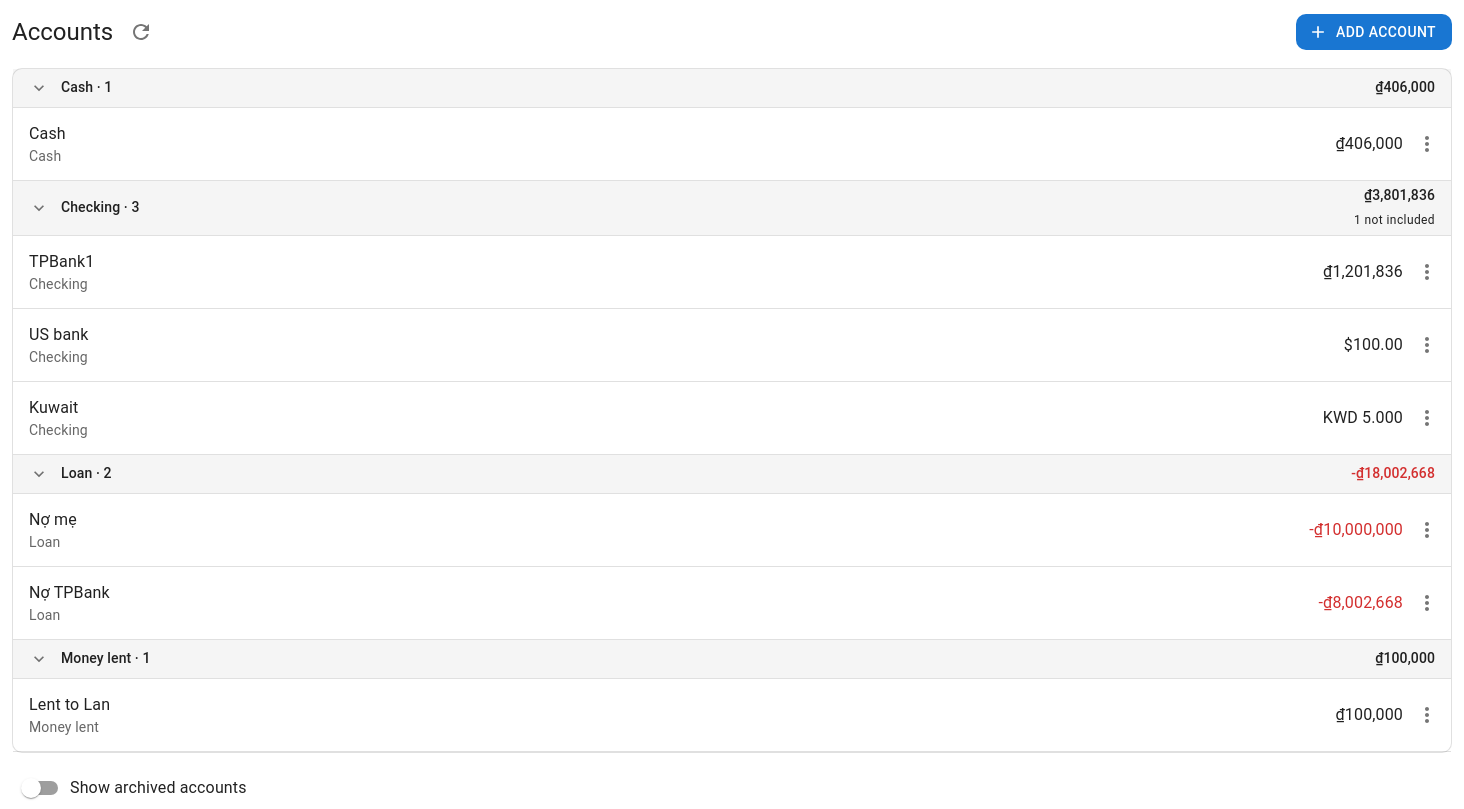
Test: pinning accounts to the Overview (waterflow#74, waterflow#88) › pins from the row's menu on a phone, with no other button beside the balance
Click the 1st button named "Account actions".
click(1427, 144)  # box 1407,124 -> 1447,164
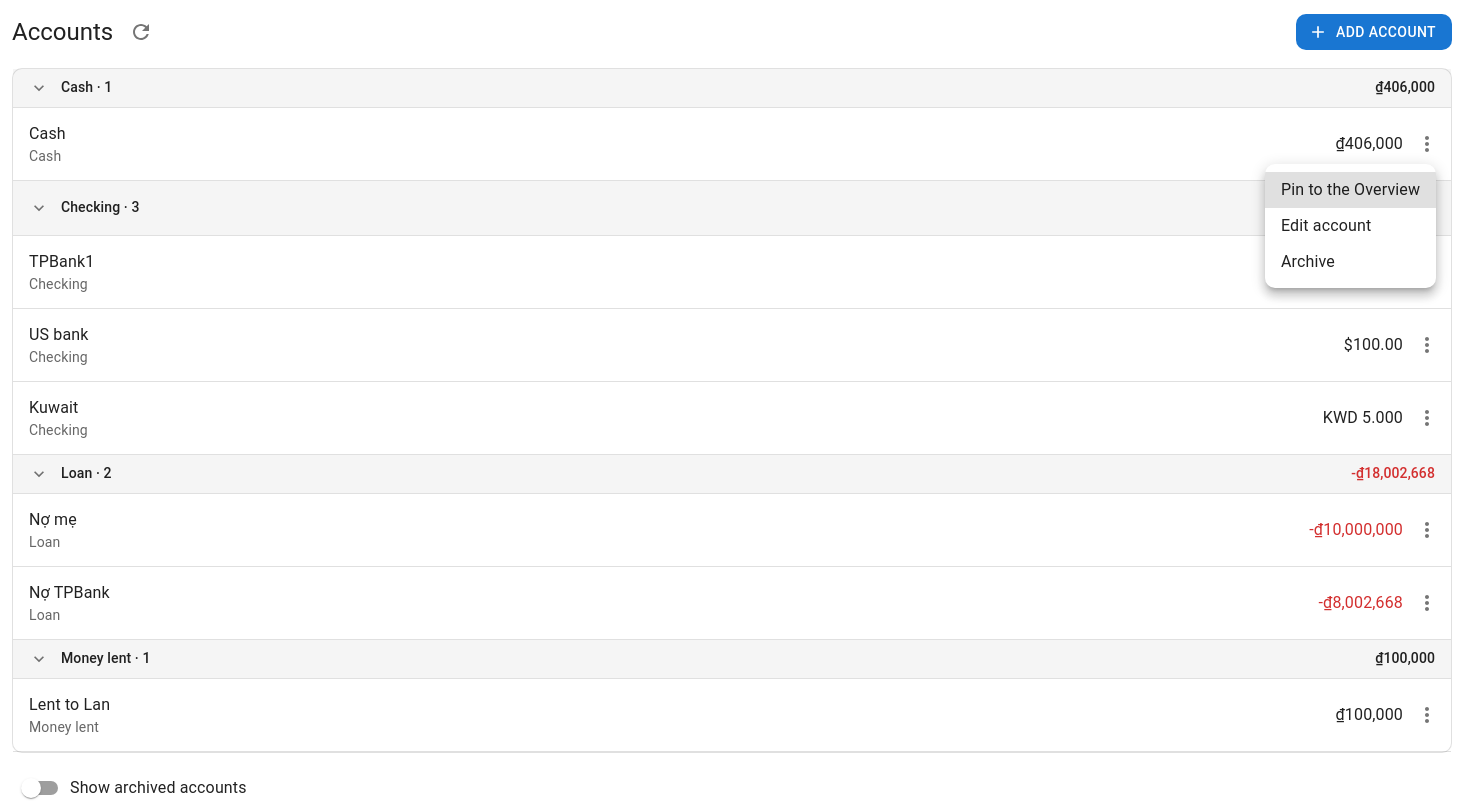
Click the menu item "Pin to the Overview".
click(1351, 190)  # box 1265,172 -> 1436,208
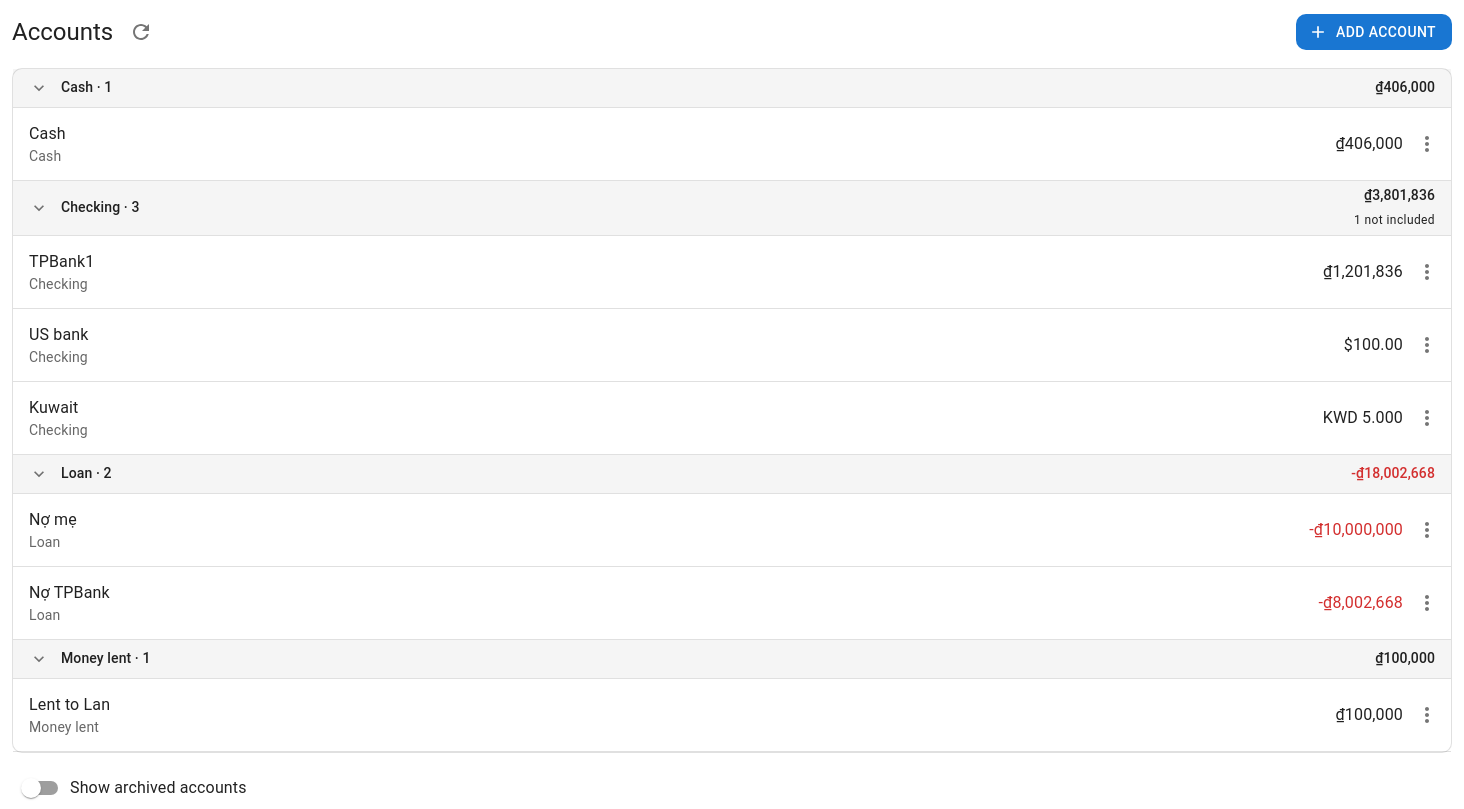
Check: the menu is gone
Click the 1st button named "Account actions".
click(1427, 144)  # box 1407,124 -> 1447,164
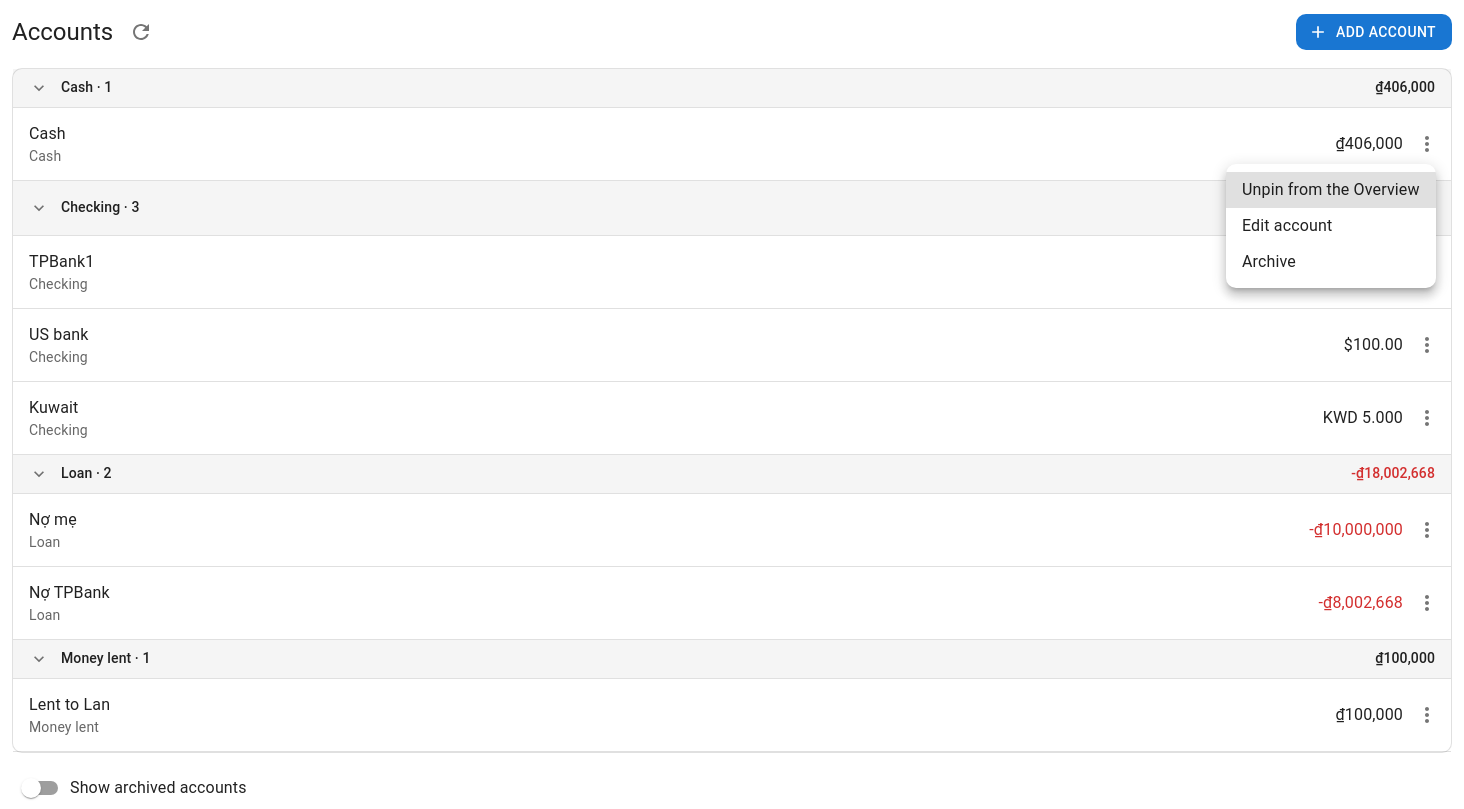
Check: the menu item "Unpin from the Overview" is shown, box 1226,172 -> 1436,208
